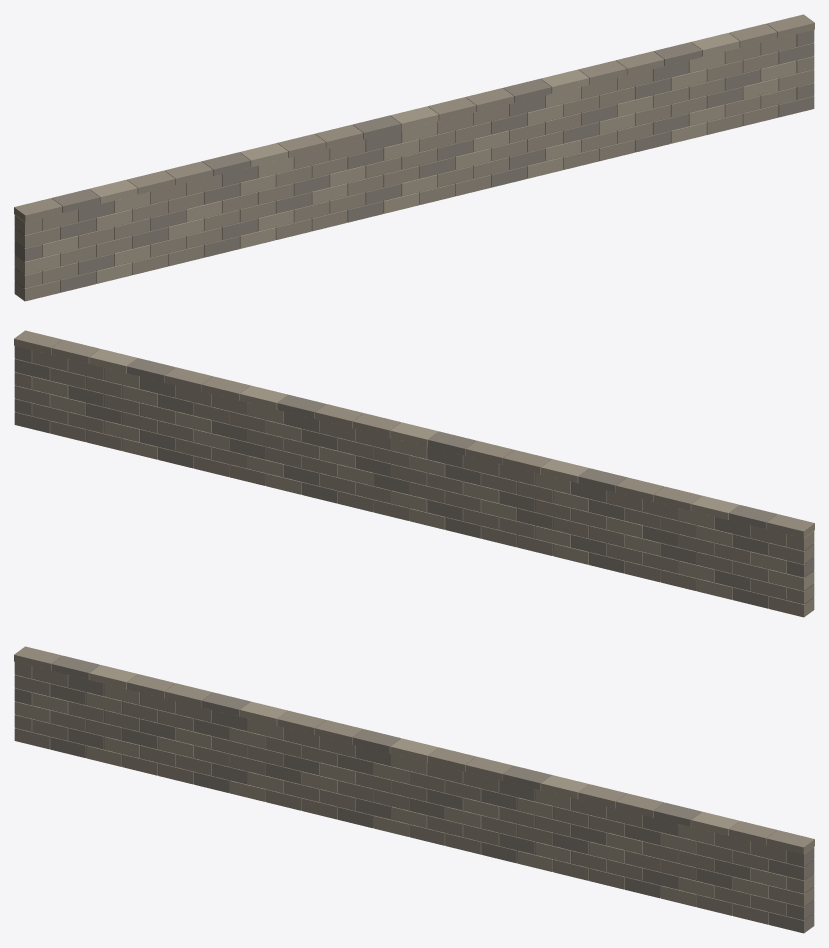
File: NorthWall.glb
3 renders of one model, top to bottom at view 1: azimuth 30°, elevation 25°; view 2: azimuth 150°, elevation 25°; view 3: azimuth 330°, elevation 25°, orthographic.
Visible parts, largest first — view 1: WallFacing, WallCap; view 2: WallFacing, WallCap; view 3: WallFacing, WallCap.
Part boxes in pixels (x1,y1,x2,y2): WallFacing: [14, 30, 814, 301]; WallCap: [14, 14, 814, 222]; WallFacing: [14, 346, 814, 617]; WallCap: [14, 330, 814, 538]; WallFacing: [14, 662, 814, 933]; WallCap: [14, 646, 814, 854].
Size of the model in its own units: 19.99 by 2.09 by 0.5.
